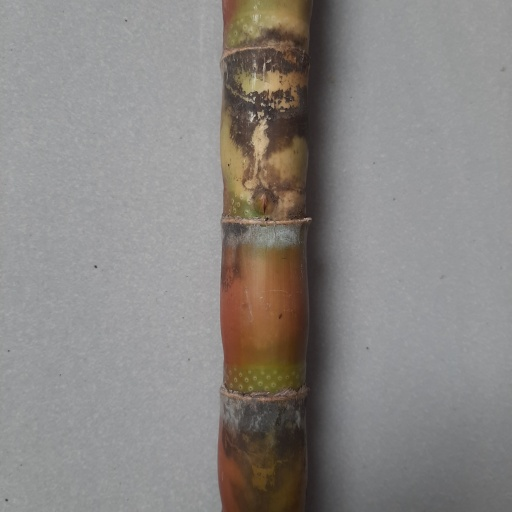Bud: (252, 189, 276, 217)
